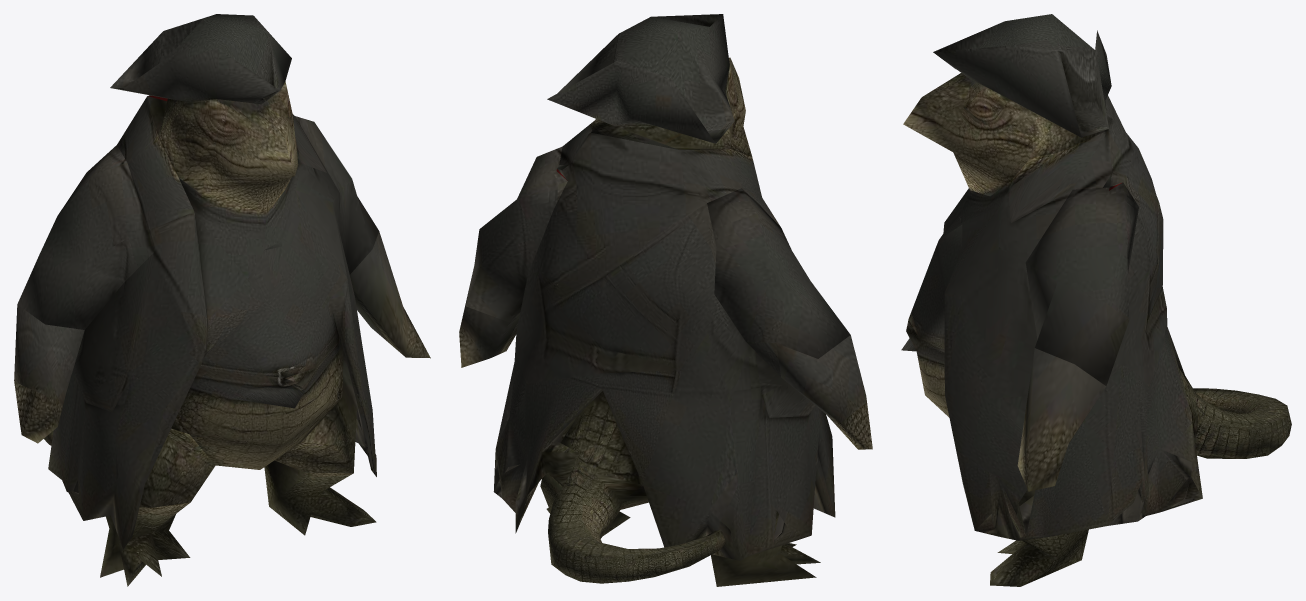
File: infantry_hp_gibs.glb
The picture shows the model from 3 angles, left to right: view 1: azimuth 30°, elevation 25°; view 2: azimuth 150°, elevation 25°; view 3: azimuth 270°, elevation 25°; orthographic projection. The views are drawn at different scales.
Visible parts, largest first — view 1: Body.001, Arm.R.001, Head.001, Hat.001, Forarm.R.001, Leg.L.001, Forarm.L.001, Leg.R.001, Upleg.L.001, Upleg.R.001, Arm.L.001; view 2: Body.001, Hat.001, Arm.R.001, Arm.L.001, Forarm.R.001, Head.001, Leg.R.001, Forarm.L.001, Leg.L.001; view 3: Body.001, Arm.L.001, Hat.001, Head.001, Forarm.L.001, Leg.L.001.
Part boxes in pixels (bbox=[...]): Body.001: bbox=[44, 95, 376, 549]; Arm.R.001: bbox=[17, 145, 155, 329]; Head.001: bbox=[147, 81, 298, 214]; Hat.001: bbox=[110, 14, 291, 104]; Forarm.R.001: bbox=[14, 305, 84, 443]; Leg.L.001: bbox=[264, 460, 376, 535]; Forarm.L.001: bbox=[350, 231, 430, 358]; Leg.R.001: bbox=[100, 502, 190, 586]; Upleg.L.001: bbox=[274, 378, 356, 473]; Upleg.R.001: bbox=[139, 428, 215, 507]; Arm.L.001: bbox=[295, 116, 378, 274]; Body.001: bbox=[493, 120, 835, 583]; Hat.001: bbox=[547, 14, 734, 143]; Arm.R.001: bbox=[707, 188, 850, 376]; Arm.L.001: bbox=[466, 146, 567, 322]; Forarm.R.001: bbox=[776, 335, 872, 449]; Head.001: bbox=[591, 57, 752, 156]; Leg.R.001: bbox=[711, 518, 820, 586]; Forarm.L.001: bbox=[459, 272, 520, 367]; Leg.L.001: bbox=[540, 473, 630, 535]; Body.001: bbox=[901, 95, 1291, 540]; Arm.L.001: bbox=[1025, 182, 1138, 385]; Hat.001: bbox=[933, 14, 1111, 137]; Head.001: bbox=[903, 73, 1107, 196]; Forarm.L.001: bbox=[1017, 348, 1105, 491]; Leg.L.001: bbox=[990, 529, 1088, 586].
Bounding box in the file's own units: 0.7935 × 0.9779 × 0.6824.
Materials: 2 (1 with a texture image).
